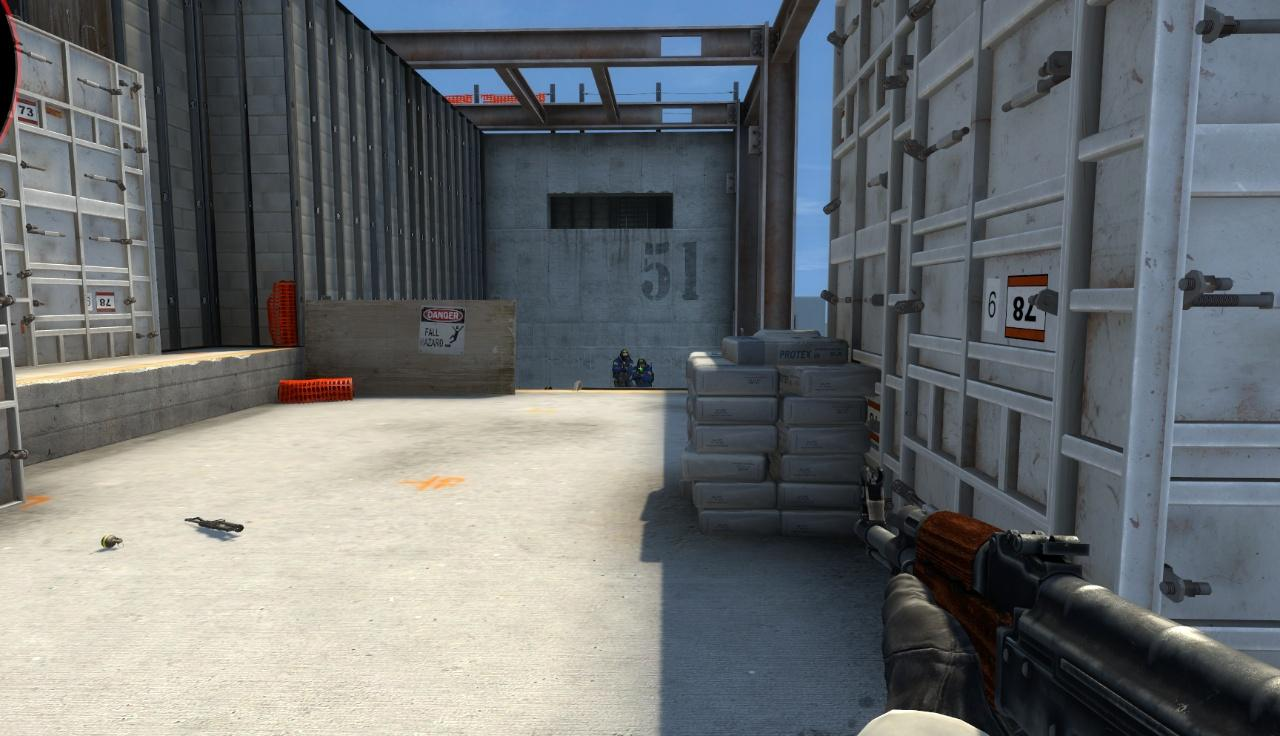ct: (612, 349, 634, 386), (635, 359, 653, 387)
cthead: (620, 350, 629, 361), (638, 360, 647, 369)
rifle: (854, 463, 1280, 736)
